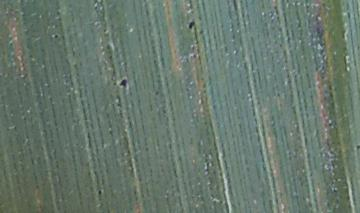tarspot: (118, 77, 129, 89), (230, 1, 240, 12), (187, 20, 197, 30), (51, 33, 61, 40), (153, 89, 160, 97), (326, 121, 333, 128), (96, 189, 104, 194), (107, 53, 112, 61), (355, 143, 360, 151)
